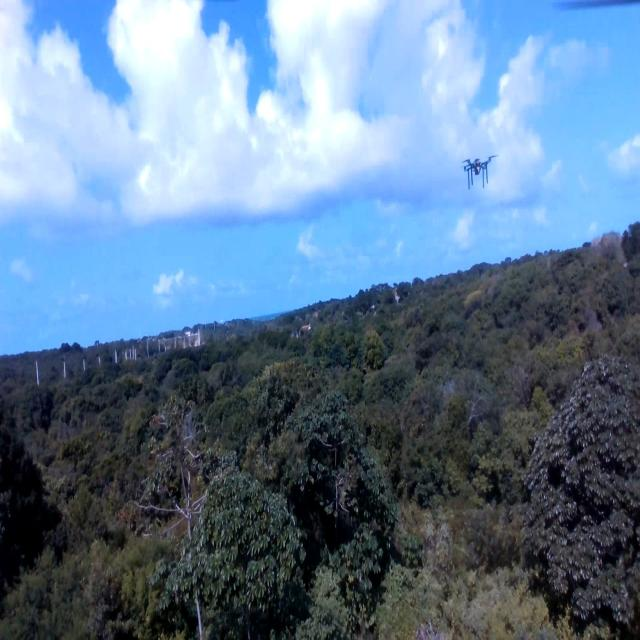-uav-: (454, 140, 501, 204)
